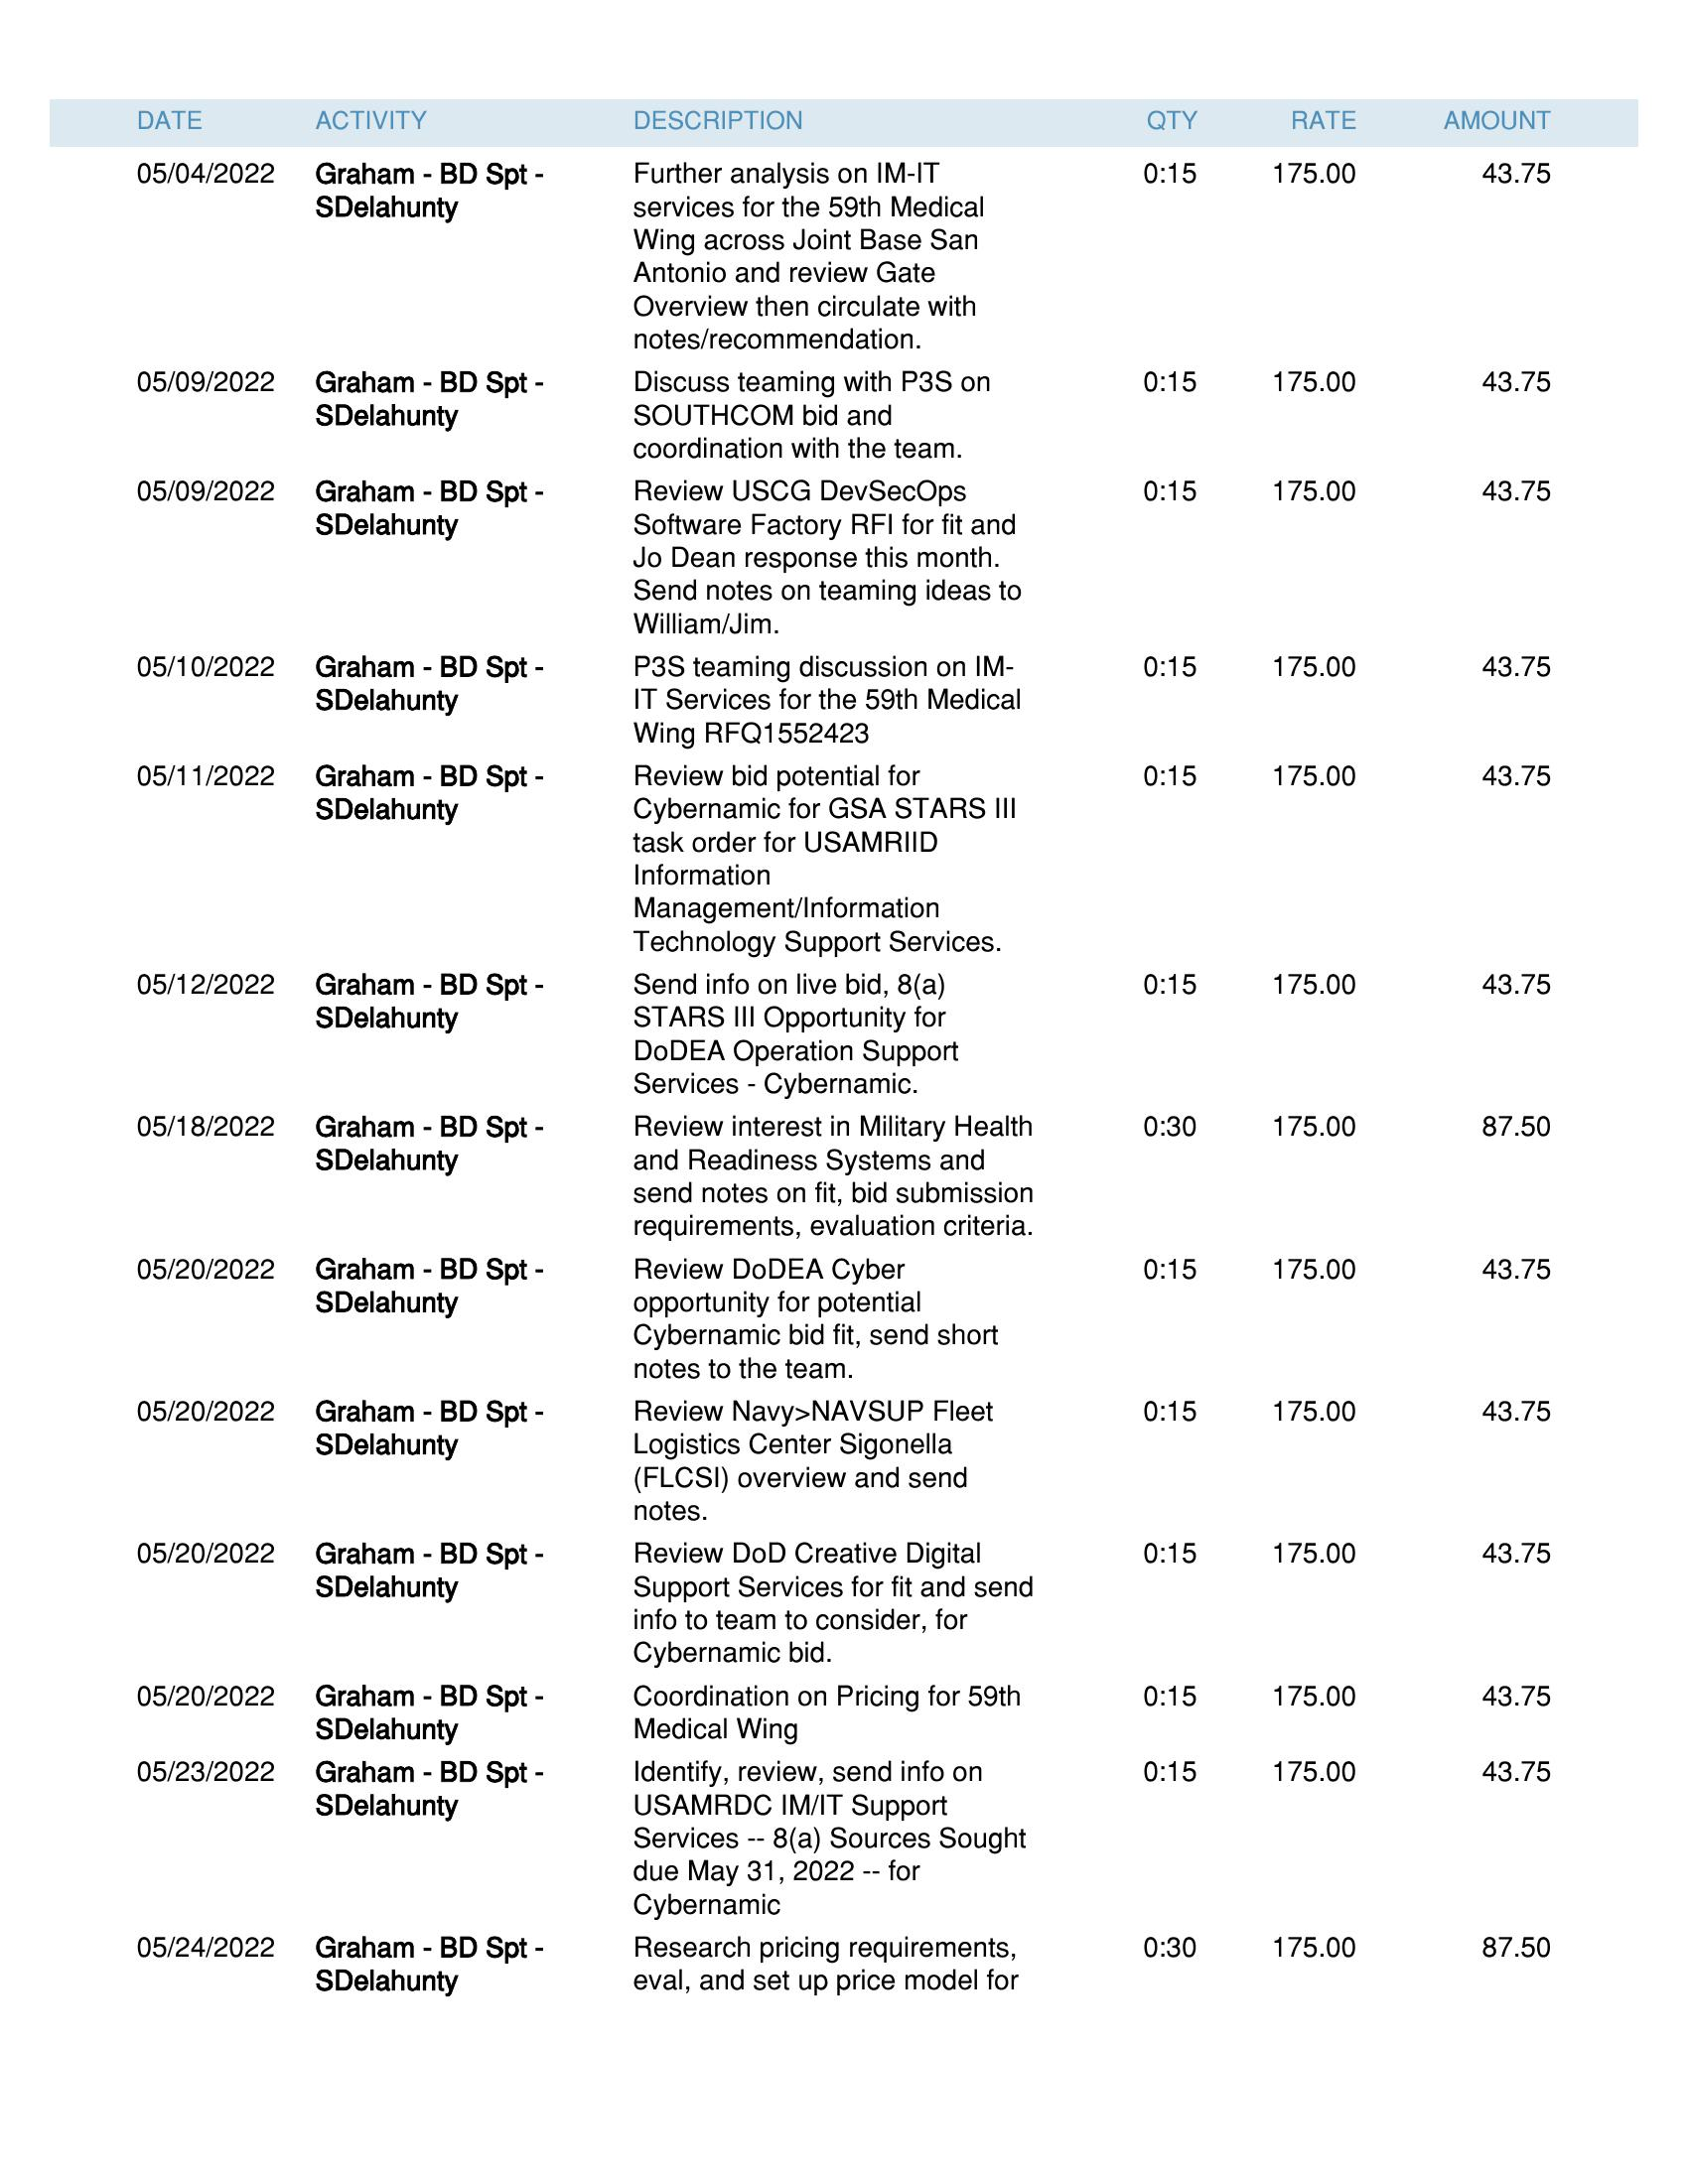table: (53, 67, 1635, 2046)
